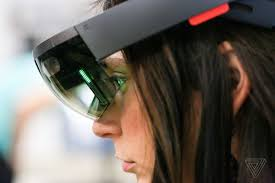hololens: (31, 1, 239, 122)
